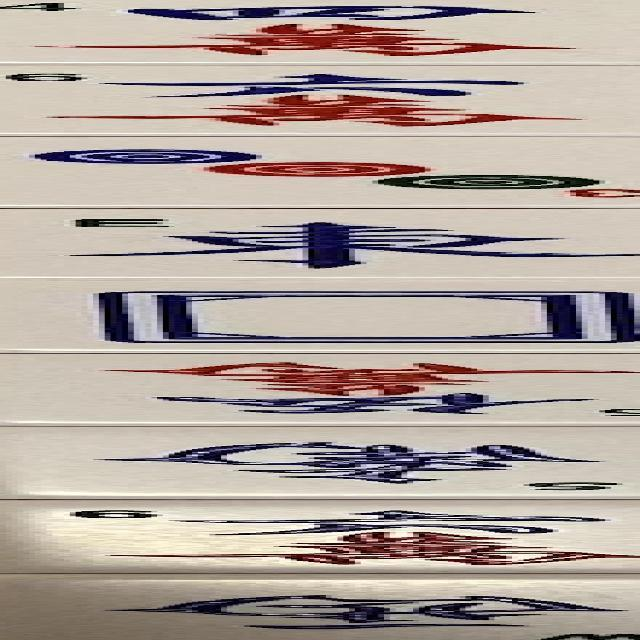hdw: (0, 279, 640, 353)
hwe: (0, 208, 640, 278)
hws: (0, 426, 640, 496)
hww: (0, 578, 640, 640)
sc4: (0, 0, 640, 66)
sc5: (0, 354, 640, 422)
sc6: (0, 500, 640, 572), (0, 64, 640, 135)
sd3: (0, 137, 640, 208)
